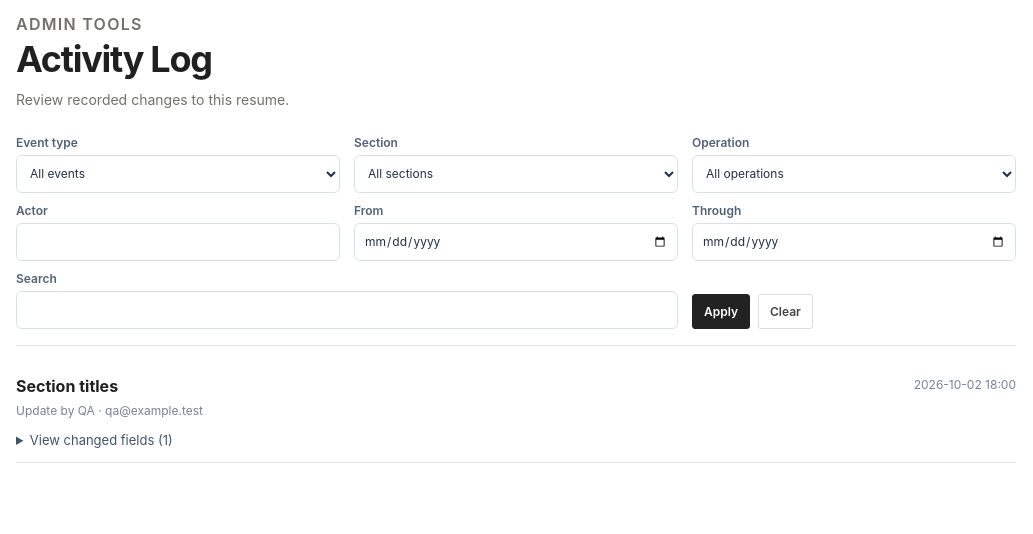
Test case: Activity Log page › describes a bilingual Section Titles V2 event as one change per modified field
The image size is (1033, 534).
Click the heading "View changed fields (1)": [101, 440] box top-left (30, 432), bottom-right (173, 448)
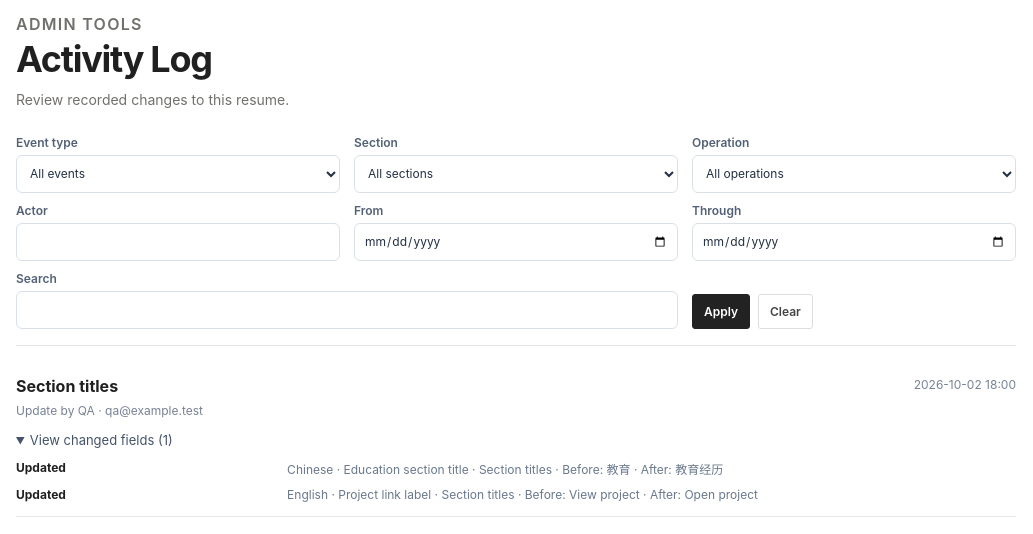
Result: the text "Chinese · Education section title · Section titles · Before: 教育 · After: 教育经历" is shown at top-left (287, 462), bottom-right (723, 477)
Result: the text "English · Project link label · Section titles · Before: View project · After: Open project" is shown at top-left (287, 487), bottom-right (758, 502)
